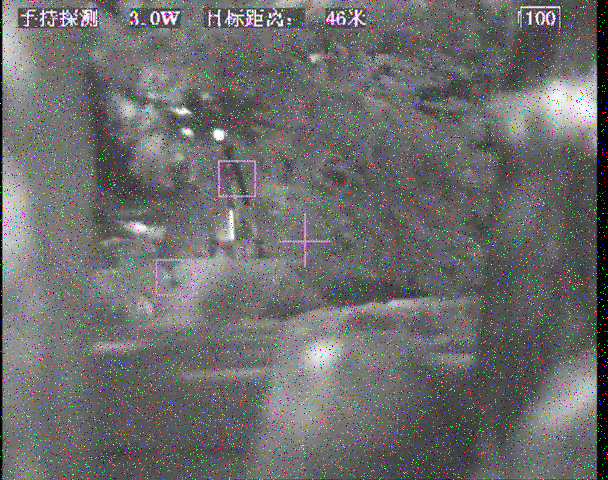my: (211, 127, 226, 142)
